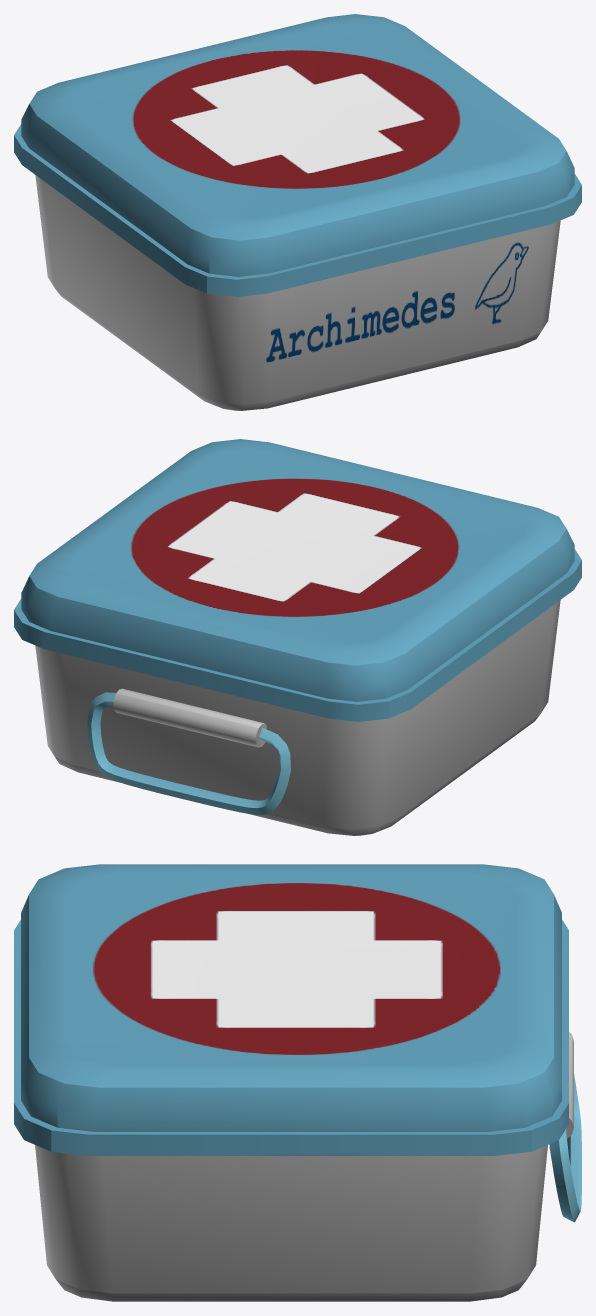
File: Fixed_Item_MedKit_Ver1.fbx
3 views of the same model, one above another, from view 1: azimuth 30°, elevation 25°; view 2: azimuth 150°, elevation 25°; view 3: azimuth 270°, elevation 25° (orthographic). The views are drawn at different scales.
Visible parts, largest first — view 1: med kit; view 2: med kit; view 3: med kit.
Part boxes in pixels (x1,y1,x2,y2): med kit: (14,14,581,410); med kit: (14,439,581,835); med kit: (14,864,581,1301).
Bounding box in the file's own units: 502 × 243 × 511.
3 materials, 3 textured.
